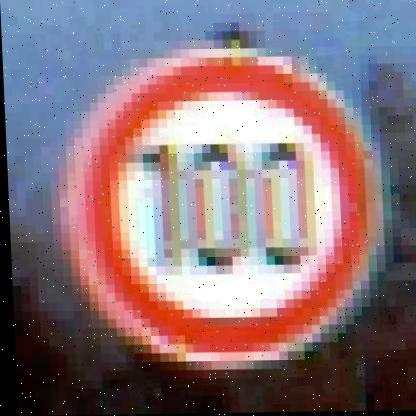Speed Limit -100-: (47, 46, 396, 375)
